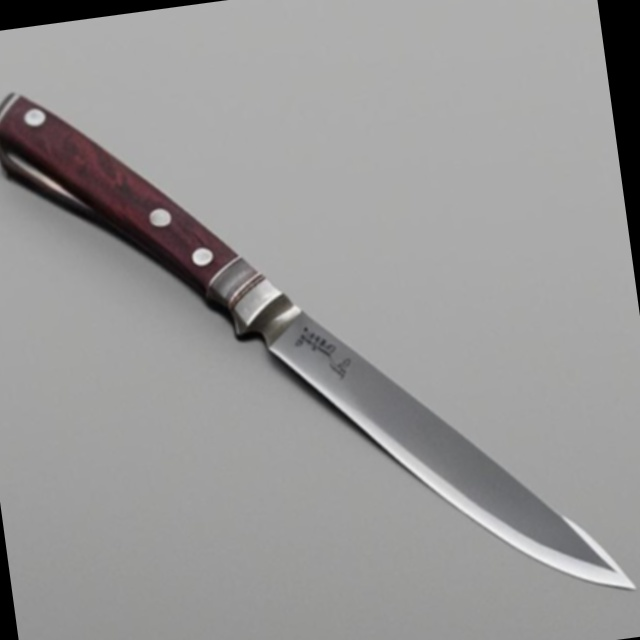Sharp-Object: (0, 11, 640, 640)
